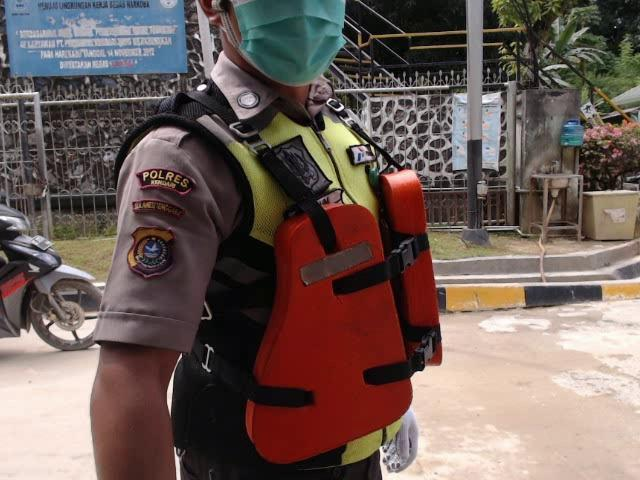vest: (226, 168, 454, 450)
